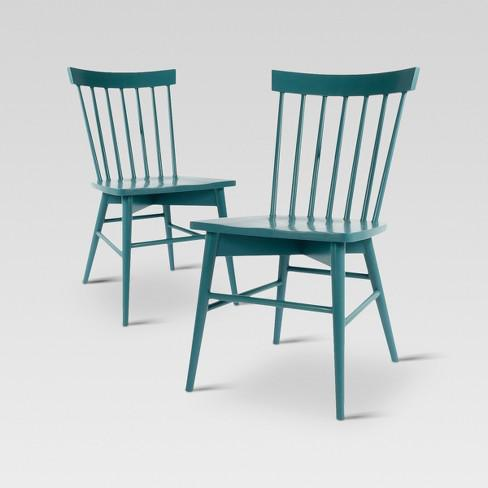chair: (172, 62, 435, 435), (55, 55, 252, 336)
